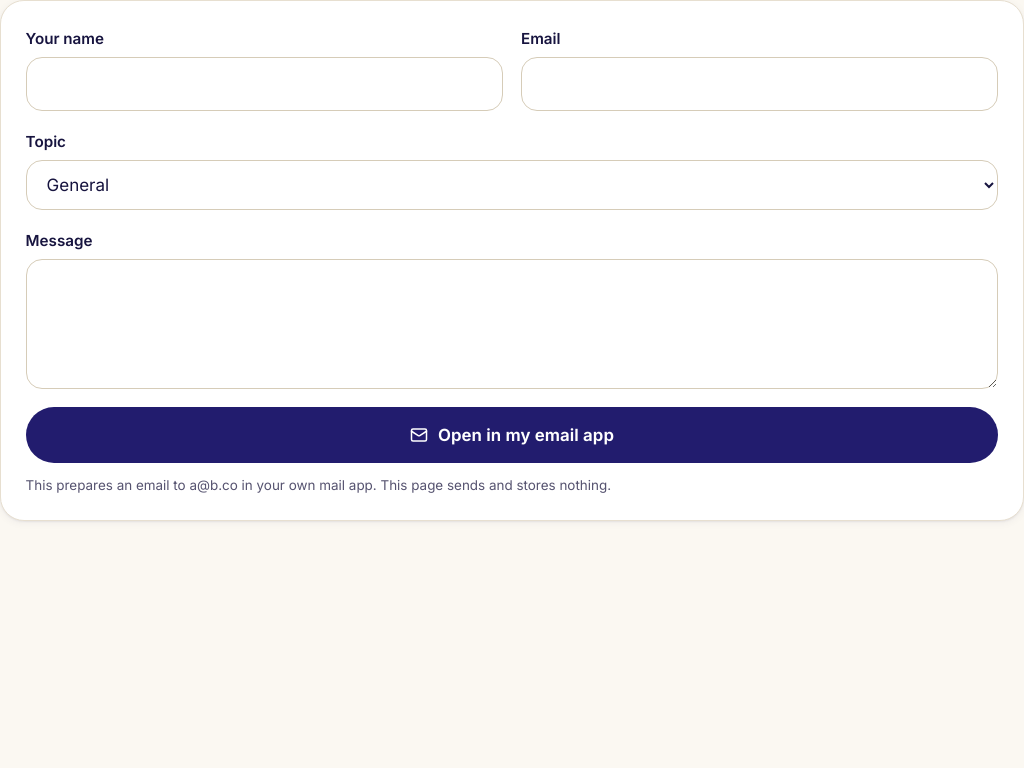
Test: MailComposer › opens mail with the prepared message when valid, and says nothing was sent
This screenshot has width=1024, height=768.
Type "Asha Rao" into the field labelled "Your name" at (264, 84), box [26,57,503,111]
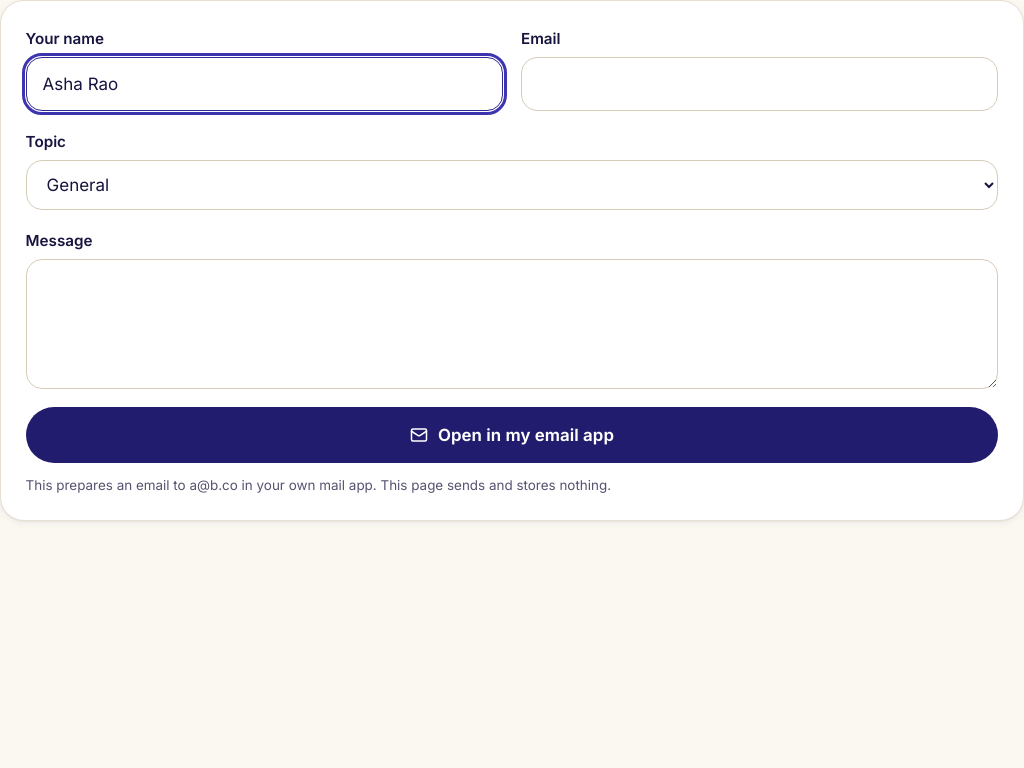
Type "asha@example.com" into the field labelled "Email" at (760, 84), box [521,57,998,111]
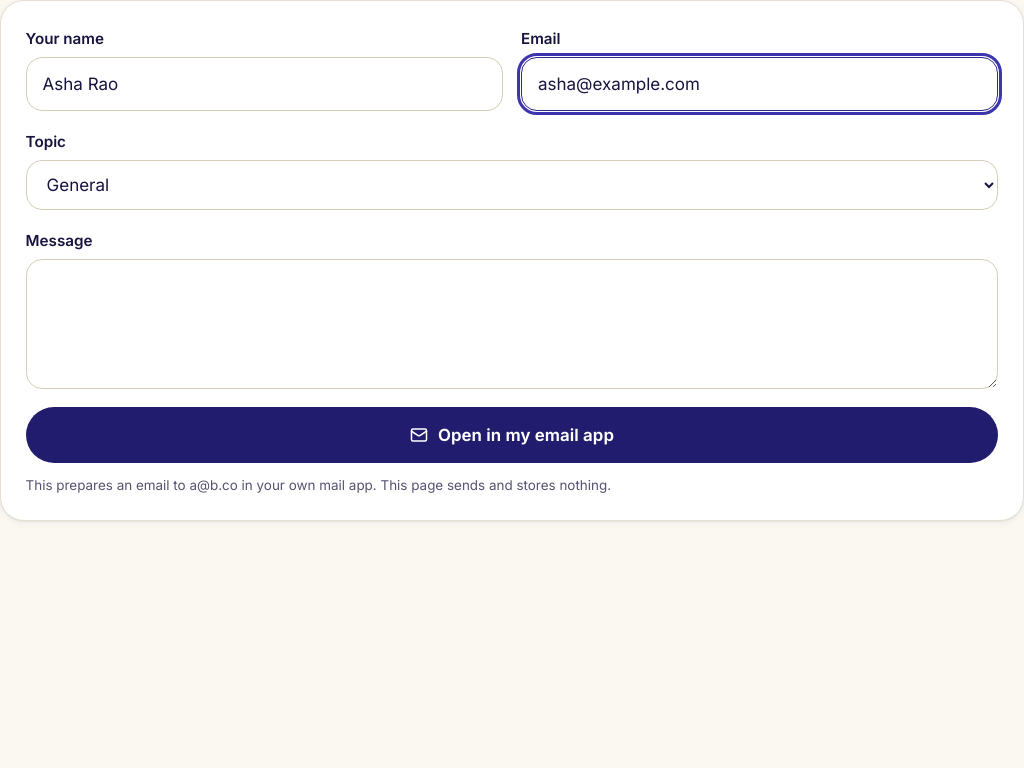
Select "Other" in the dropdown labelled "Topic" at (512, 185), box [26,160,998,210]
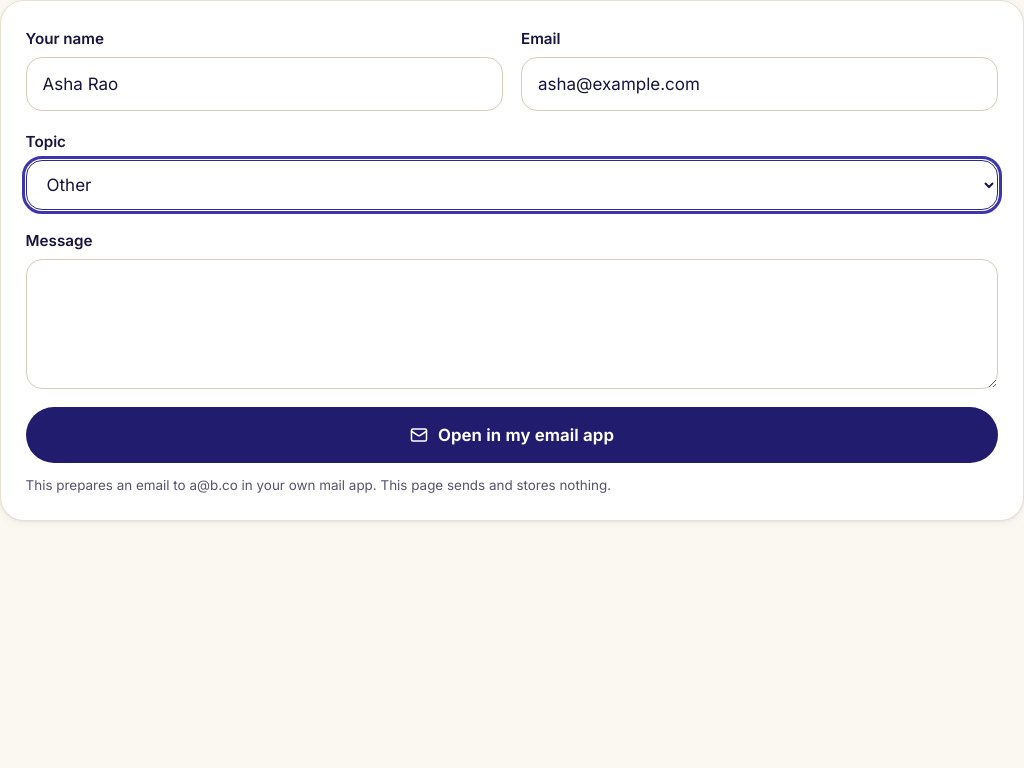
Type "I would like to help." into the text box labelled "Message" at (512, 324), box [26,259,998,389]
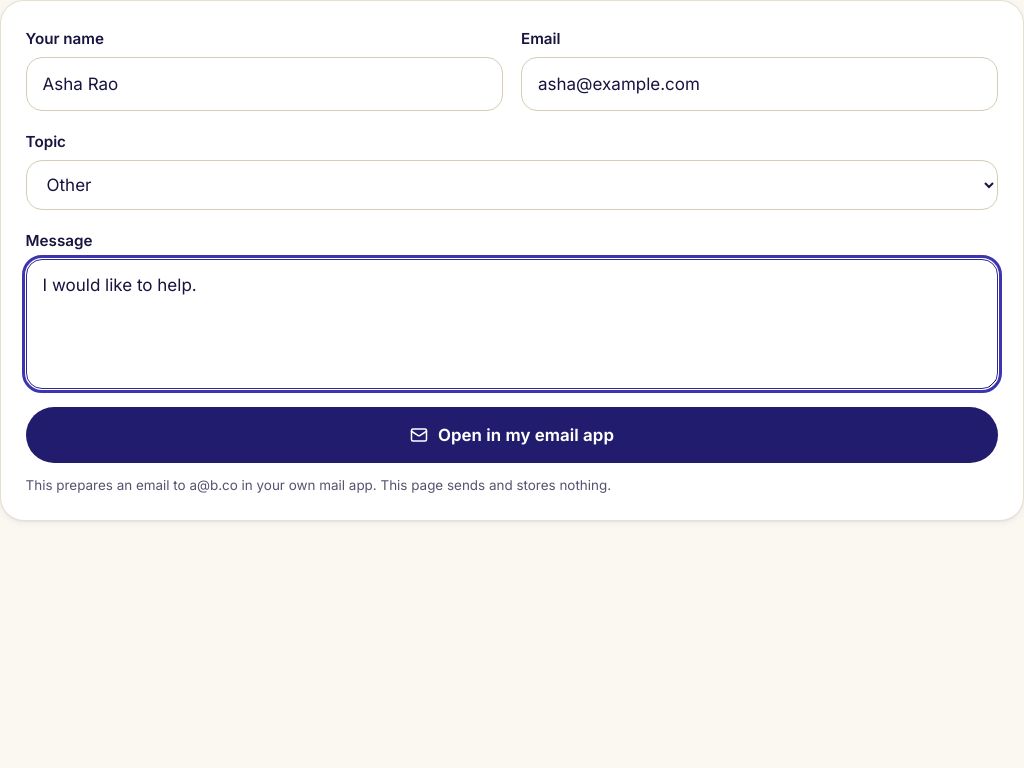
Click the button "Open in my email app" at (512, 435), box [26,407,998,463]
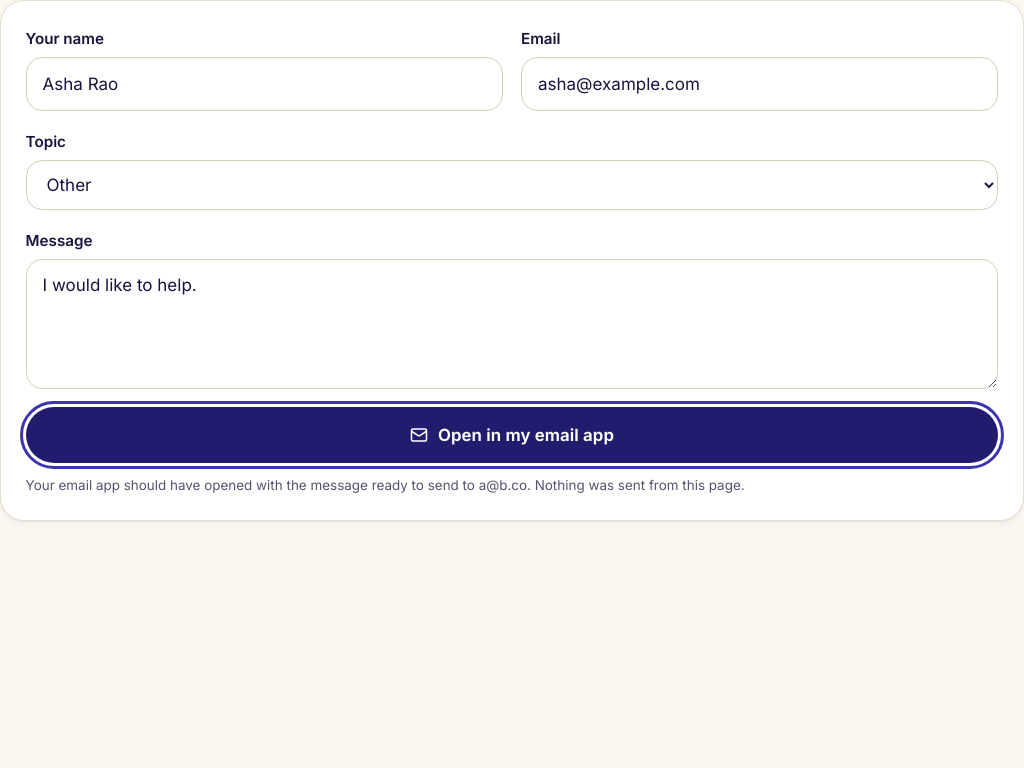
Now the message shows "Nothing was sent from this page", box [26,477,745,493]
